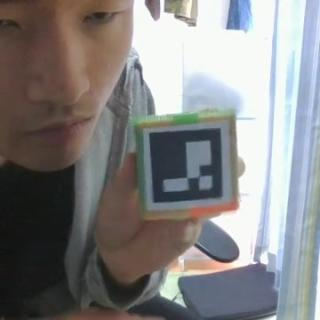armor: (143, 123, 234, 210)
robot: (133, 110, 241, 220)
